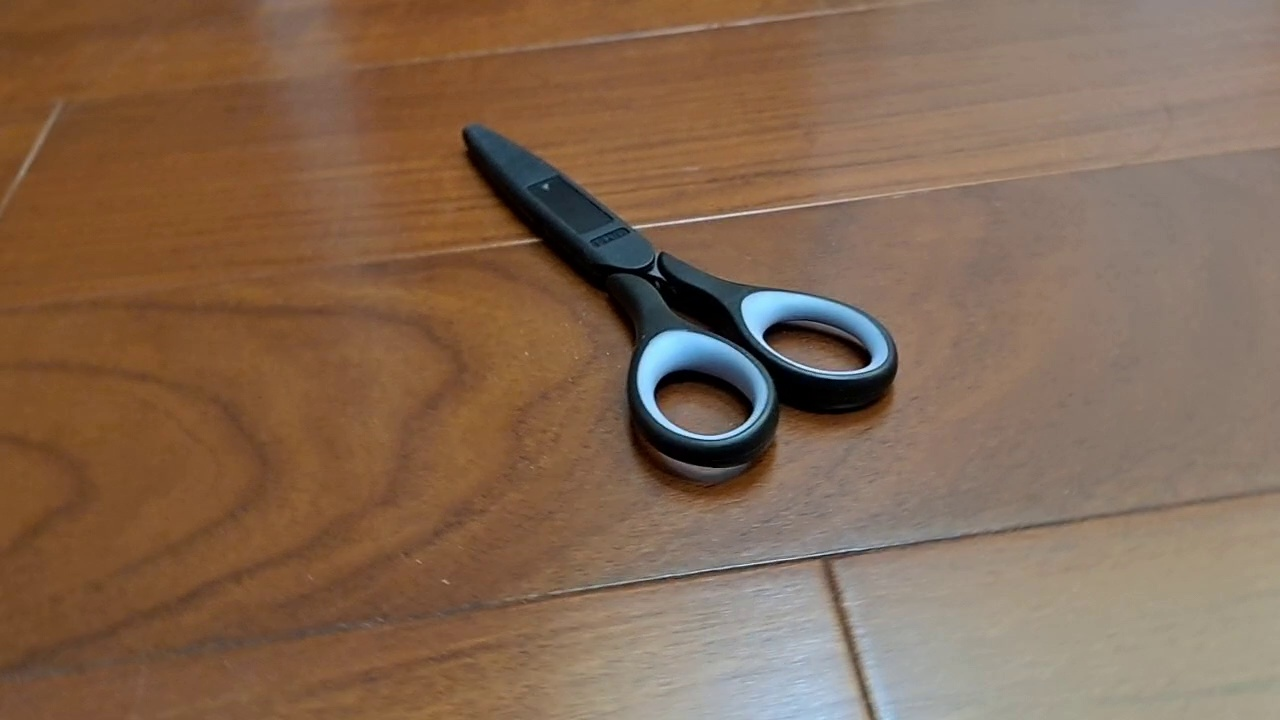scissors: (460, 122, 899, 469)
